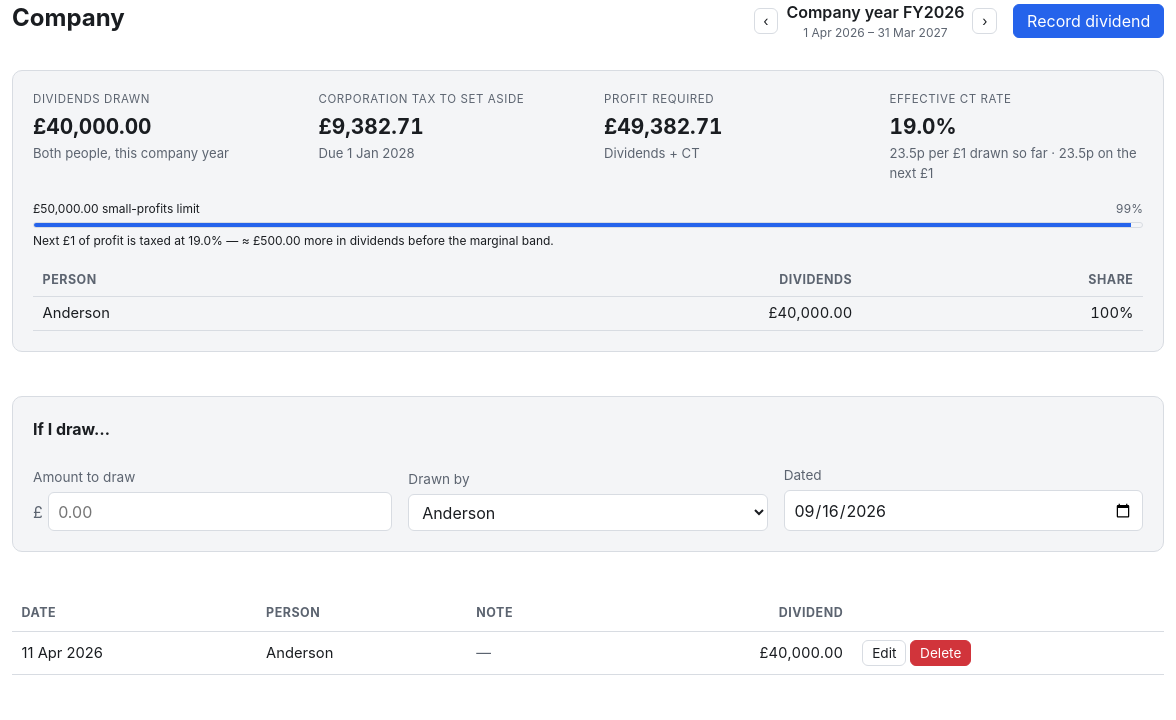
Test case: Company tab draw calculator › warns when a draw crosses the £50,000 profit line
Type "5000" into the field labelled "Amount to draw" at [220, 512], box [48,492,392,531]
(page scrolled)
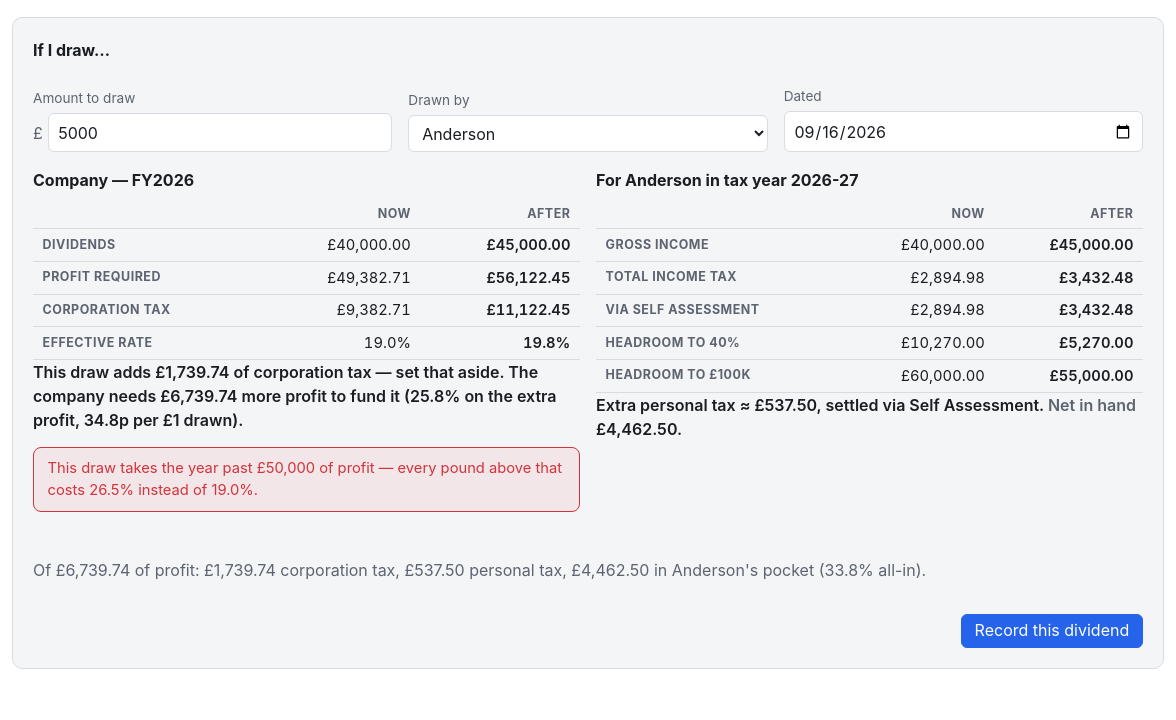
Now the text "takes the year past £50,000 of profit" is shown, box [48,459,562,499]
